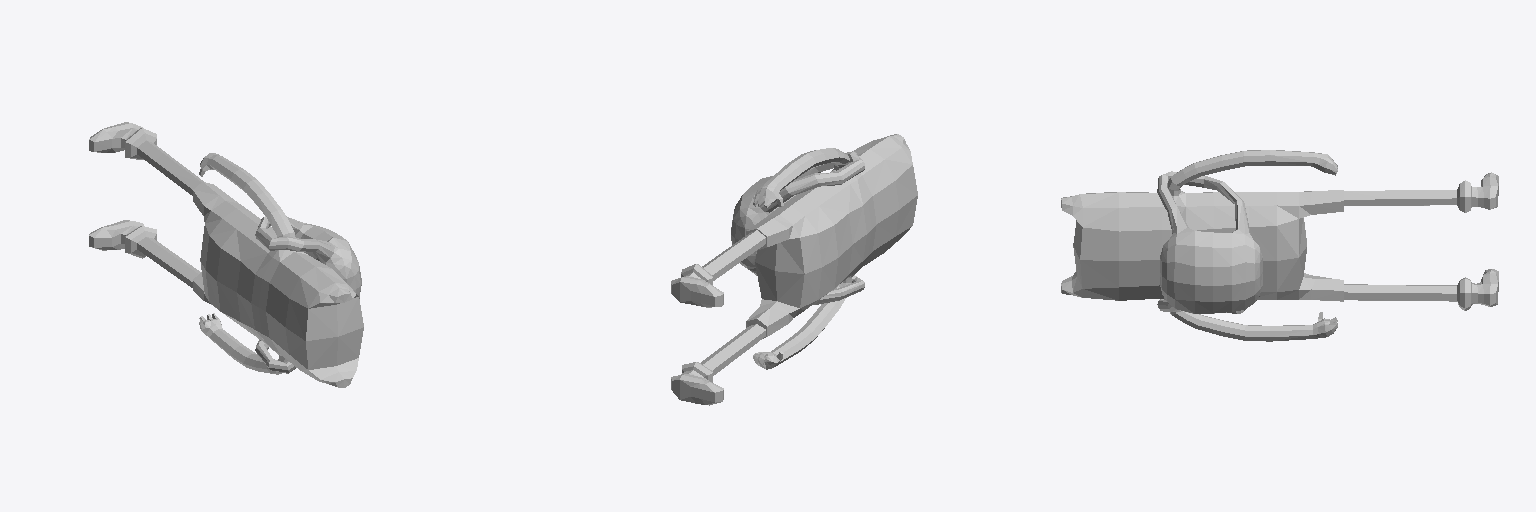
File: finn.obj
3 renders of one model, left to right at view 1: azimuth 30°, elevation 25°; view 2: azimuth 150°, elevation 25°; view 3: azimuth 270°, elevation 25°, orthographic.
Visible parts, largest first — view 1: Finn; view 2: Finn; view 3: Finn.
Boxes of the visible parts, box(x1,y1,x2,y2) form: Finn: box(89, 122, 363, 387); Finn: box(671, 134, 917, 405); Finn: box(1061, 150, 1498, 341).
Bounding box in the file's own units: 23.45 × 35.03 × 72.75.